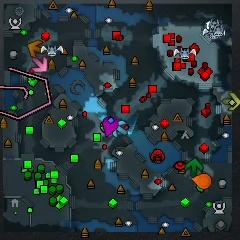p3: (103, 116, 118, 137)
p5: (192, 174, 212, 188)
x1: (30, 56, 48, 73)
x2: (223, 92, 240, 111)
x3: (111, 120, 129, 137)
x4: (185, 159, 203, 177)
x5: (28, 40, 44, 57)
